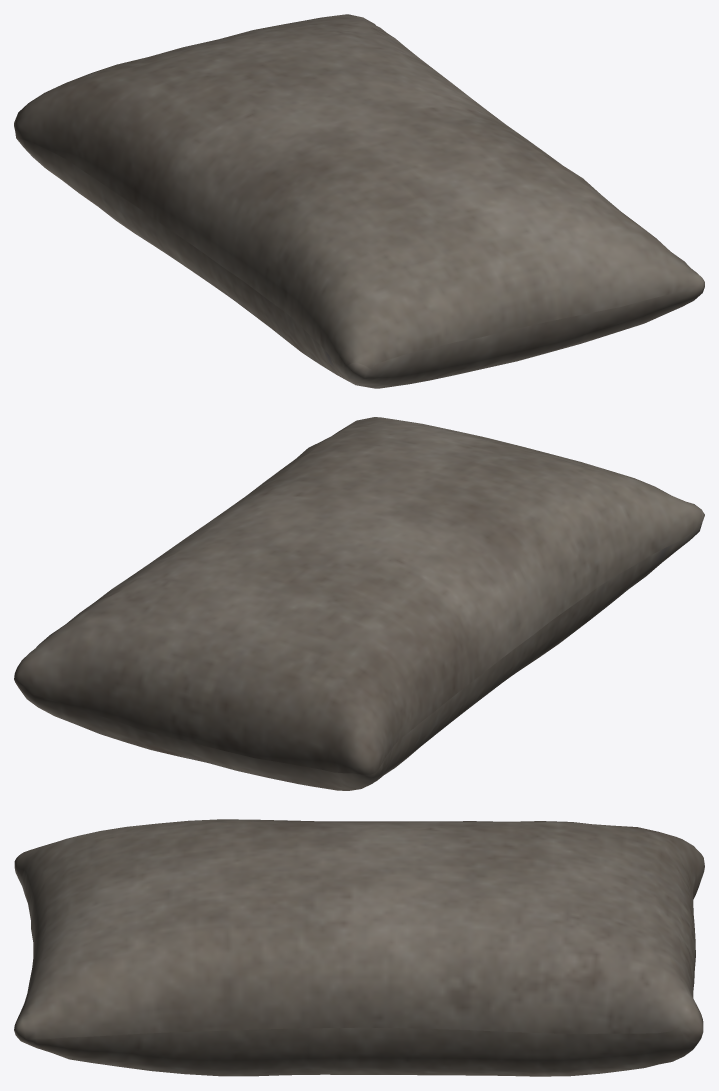
File: SM_Pillow.fbx
3 views of the same model, one above another, from view 1: azimuth 30°, elevation 25°; view 2: azimuth 150°, elevation 25°; view 3: azimuth 270°, elevation 25° (orthographic).
Visible parts, largest first — view 1: SM_Pillow_LOD0; view 2: SM_Pillow_LOD0; view 3: SM_Pillow_LOD0.
Part boxes in pixels (box(x1,y1,x2,y2)): SM_Pillow_LOD0: box(14, 14, 704, 388); SM_Pillow_LOD0: box(14, 417, 704, 790); SM_Pillow_LOD0: box(14, 819, 704, 1076).
Size of the model in its own units: 49.16 by 81.16 by 23.05.
